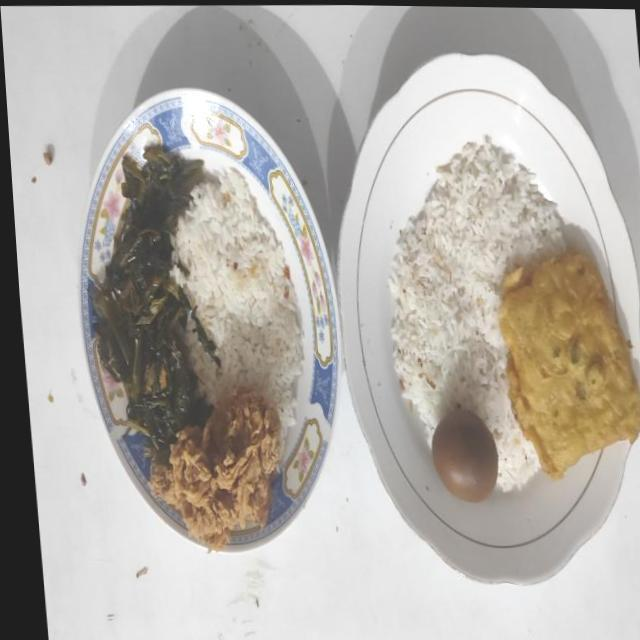nasi_putih: (388, 135, 563, 491), (170, 168, 303, 458)
tumis_kangkung: (89, 143, 220, 464)
